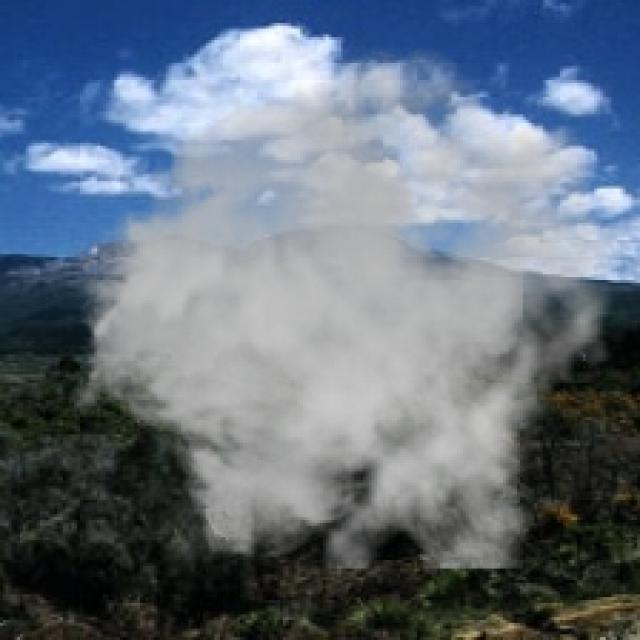Smoke: (66, 46, 628, 568)
